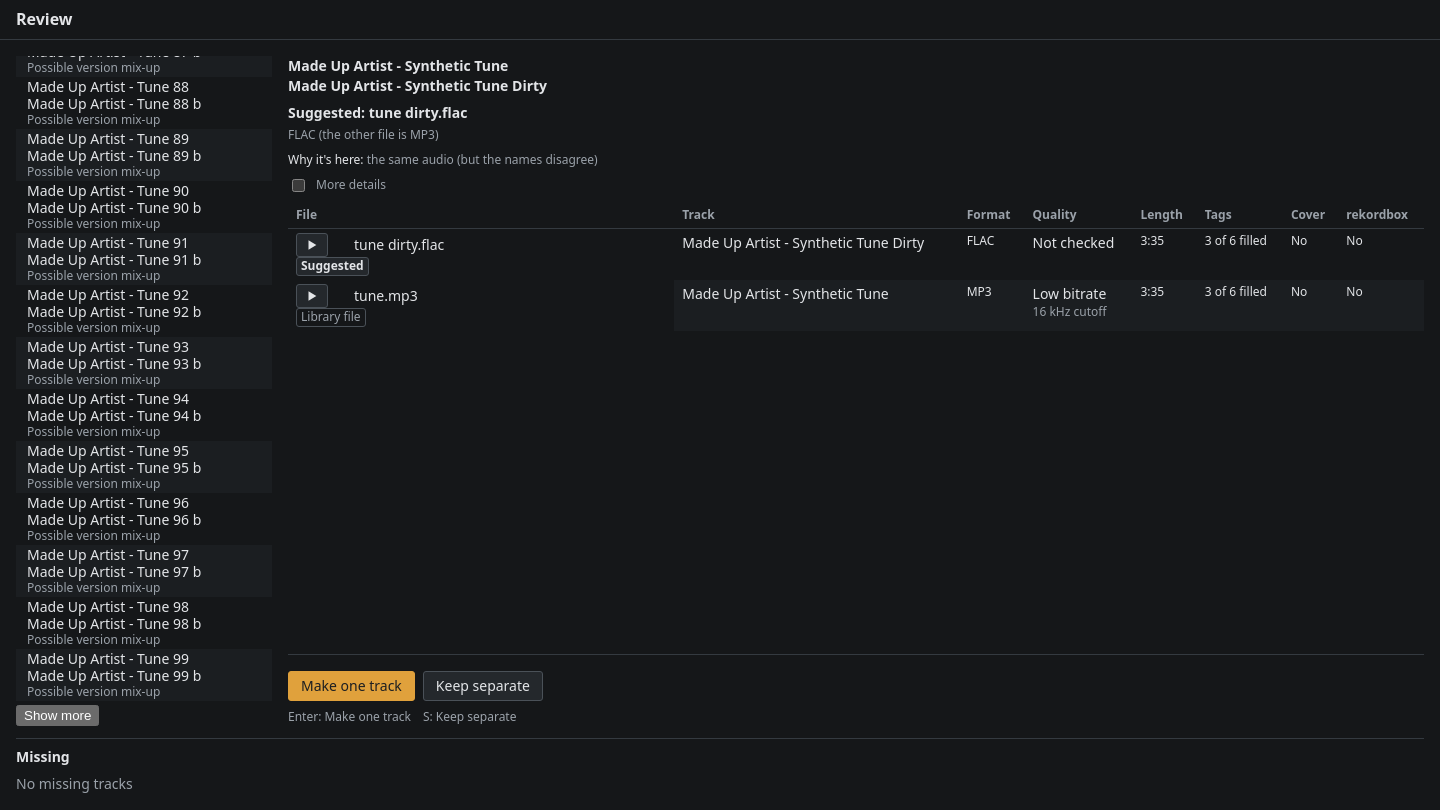
Test: the Review queue › loads the next page of a group on request
(page scrolled)
Click the button "Show more" at (58, 716), box [16, 705, 99, 726]
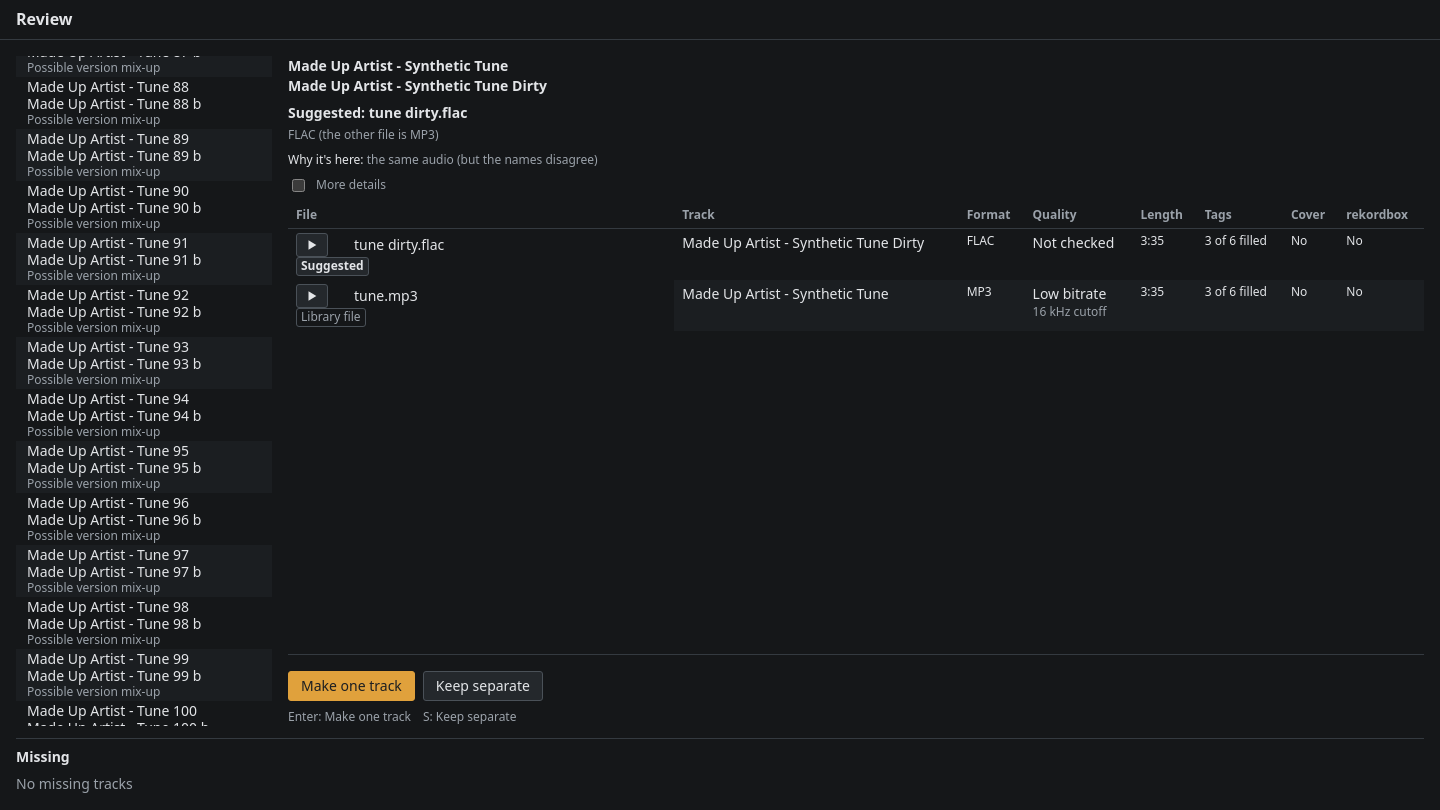
Expected: the button "Show more" is gone
